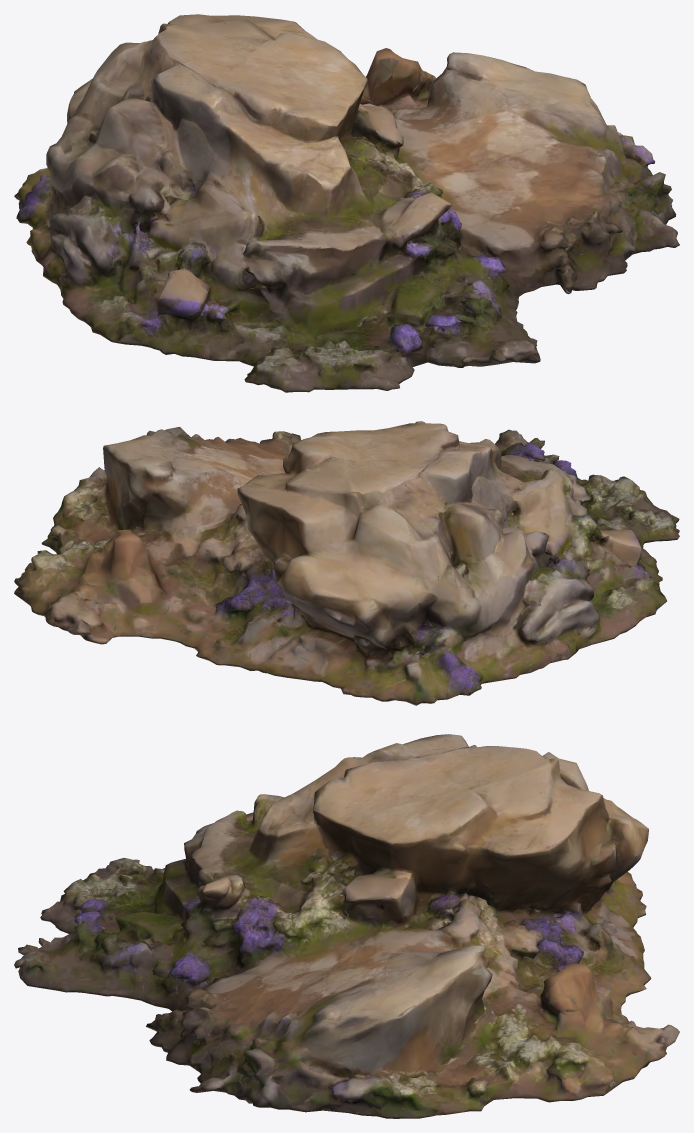
File: Meadow_Rocks.glb
3 views of the same model, one above another, from view 1: azimuth 30°, elevation 25°; view 2: azimuth 150°, elevation 25°; view 3: azimuth 270°, elevation 25° (orthographic). The views are drawn at different scales.
Parts seen in each view (by area): view 1: Meadow_Rocks; view 2: Meadow_Rocks; view 3: Meadow_Rocks.
Boxes of the visible parts, x1,y1,x2,y2 form: Meadow_Rocks: (14, 14, 679, 392); Meadow_Rocks: (14, 421, 679, 705); Meadow_Rocks: (14, 734, 679, 1118).
Size of the model in its own units: 1.99 by 0.5747 by 1.97.
1 material, 1 textured.
